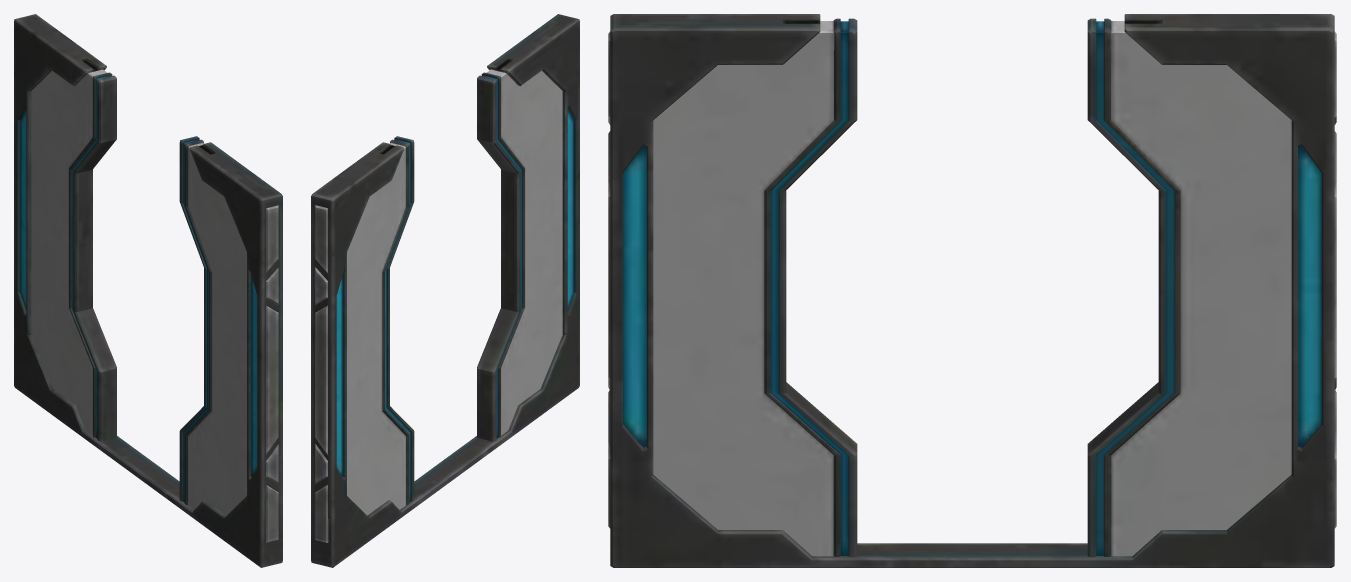
Rendered from SM_Doorbase_Ancient_08431a.glb.
The picture shows the model from 3 angles, left to right: view 1: azimuth 30°, elevation 25°; view 2: azimuth 150°, elevation 25°; view 3: azimuth 270°, elevation 25°; orthographic projection. The views are drawn at different scales.
Size of the model in its own units: 0.2107 by 3.29 by 4.02.
1 material, 1 textured.
